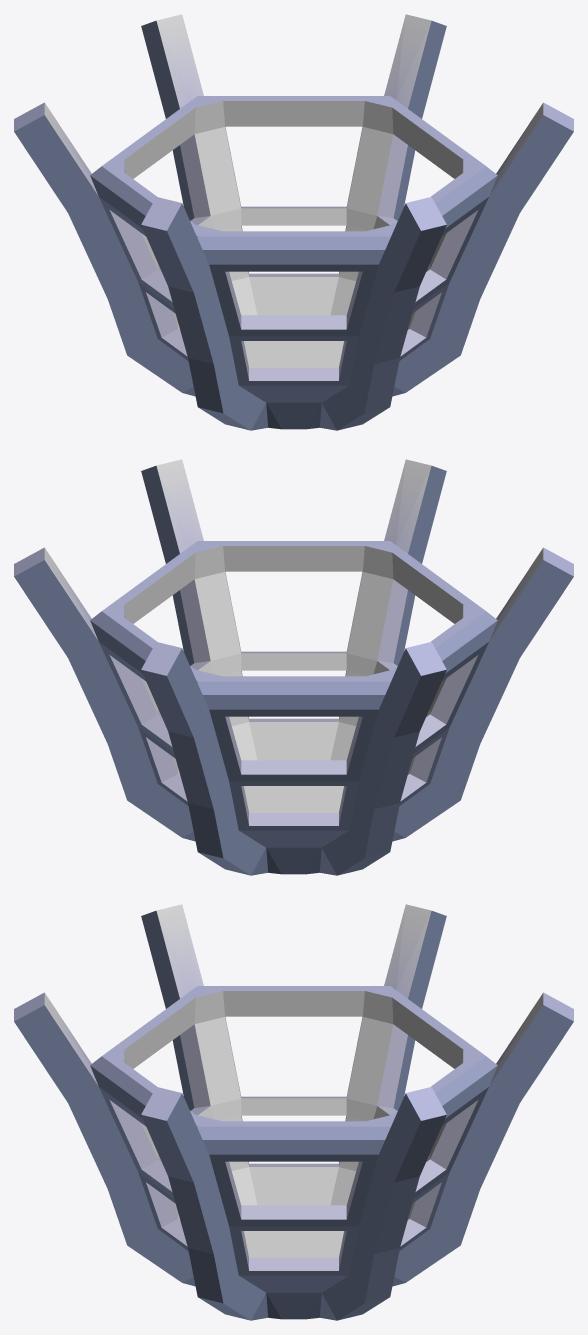
The model's file is Prop_Brazier.fbx.
The picture shows the model from 3 angles, top to bottom: view 1: azimuth 30°, elevation 25°; view 2: azimuth 150°, elevation 25°; view 3: azimuth 270°, elevation 25°; orthographic projection.
Parts seen in each view (by area): view 1: Brazier; view 2: Brazier; view 3: Brazier.
Part boxes in pixels (x1,y1,x2,y2): Brazier: [14, 14, 573, 430]; Brazier: [14, 459, 573, 875]; Brazier: [14, 904, 573, 1320].
Bounding box in the file's own units: 197 × 127 × 220.
